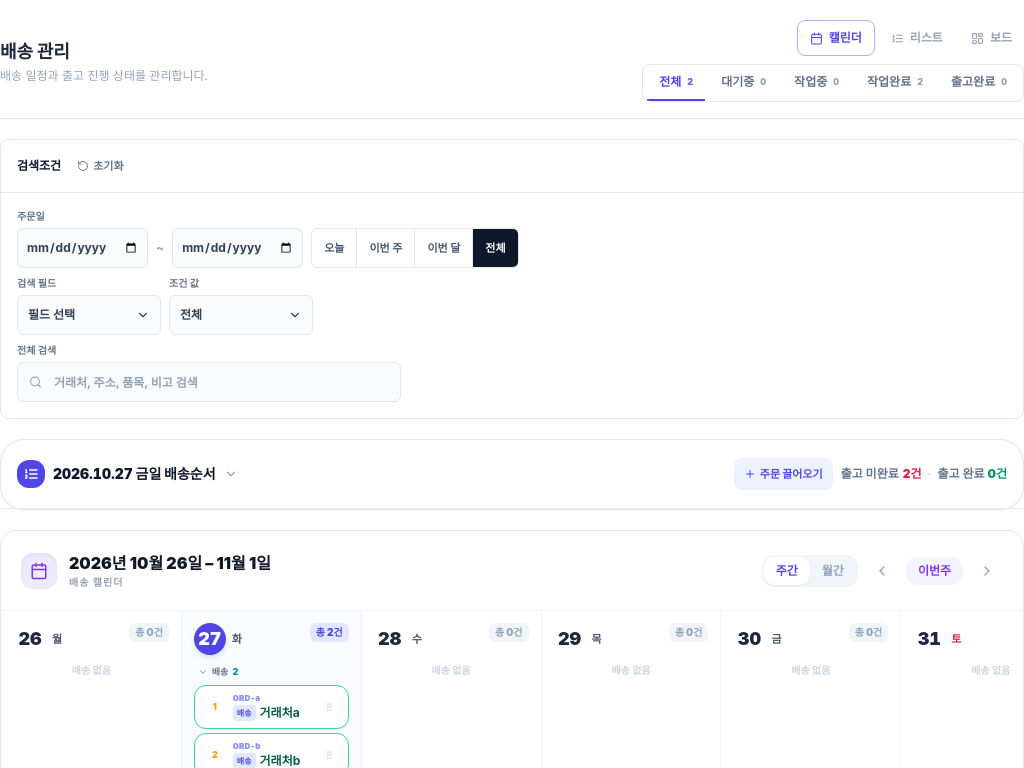
Test: 순서 picker 응답유실은 dialog 안에서 조회·중단하고 현재읽기 뒤 같은초안으로 다시 작성한다
Click the button "주문 끌어오기": click(783, 474) [734,458,833,490]
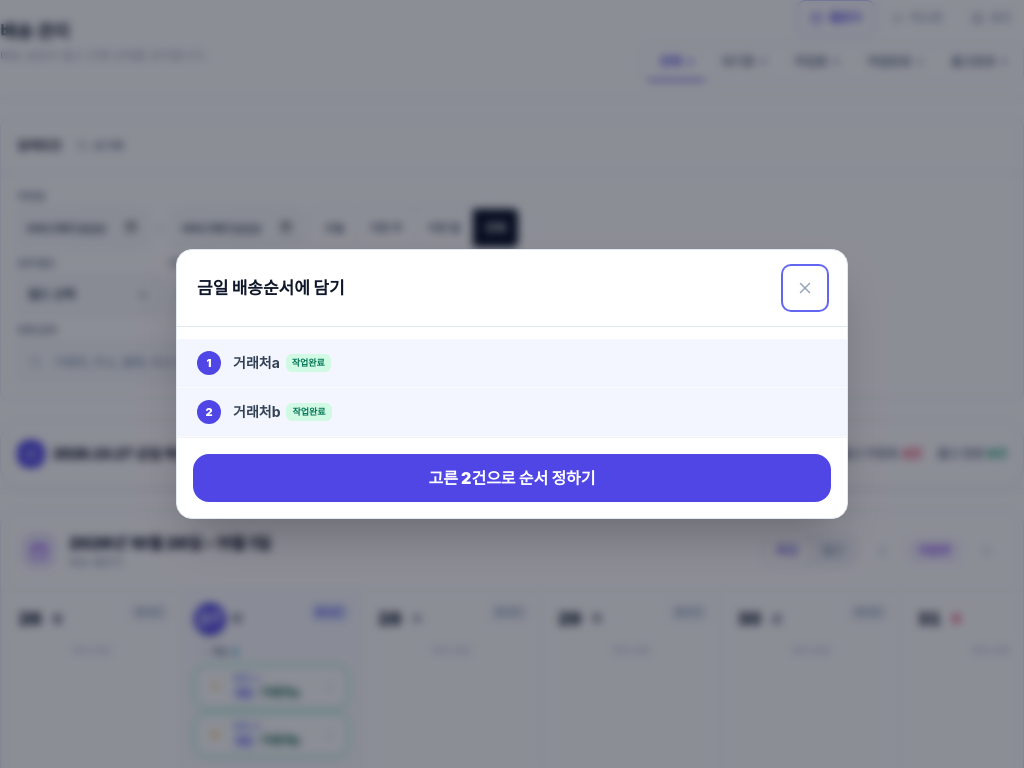
Click the button "고른 2건으로 순서 정하기": click(512, 478) [193,454,831,502]
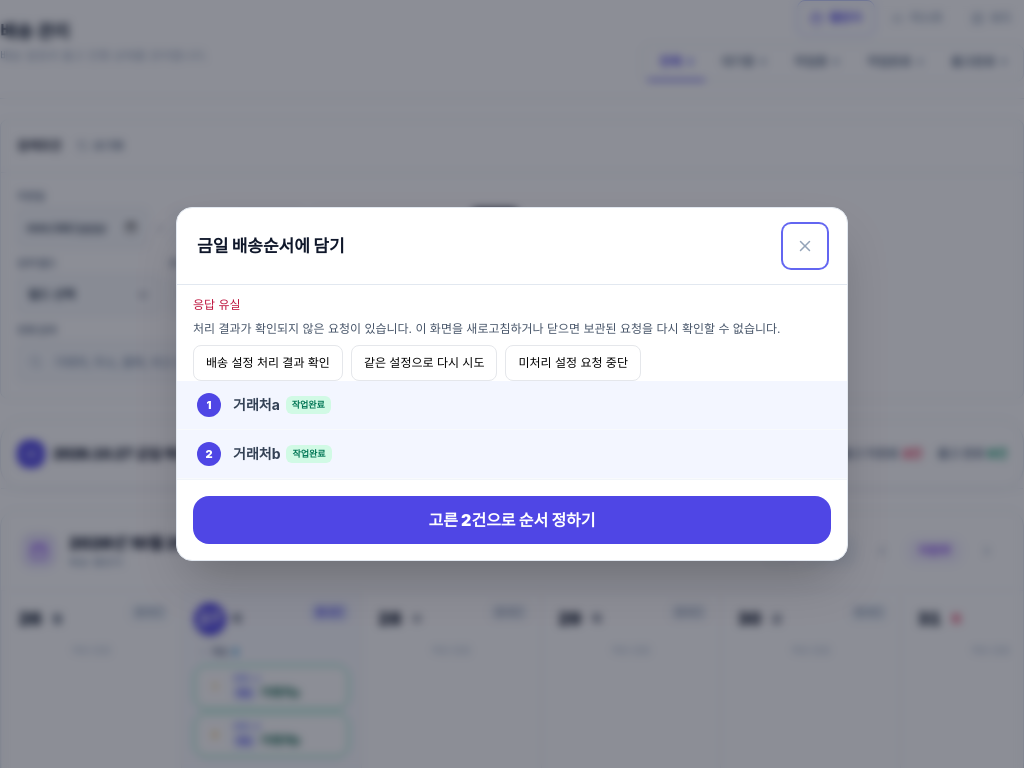
Result: the button "배송 설정 처리 결과 확인" is enabled
Click the button "배송 설정 처리 결과 확인": click(268, 363) [193,345,343,381]
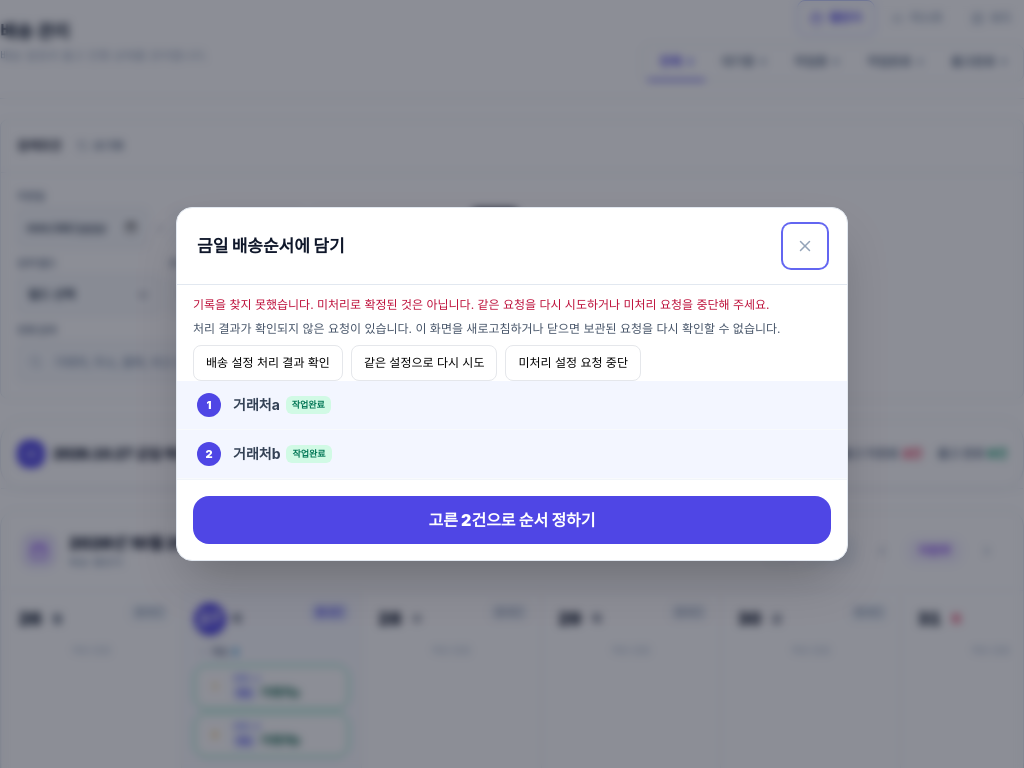
Result: the message shows "미처리로 확정된 것은 아닙니다" at [193,297,770,312]
Click the button "미처리 설정 요청 중단": click(573, 363) [505,345,641,381]
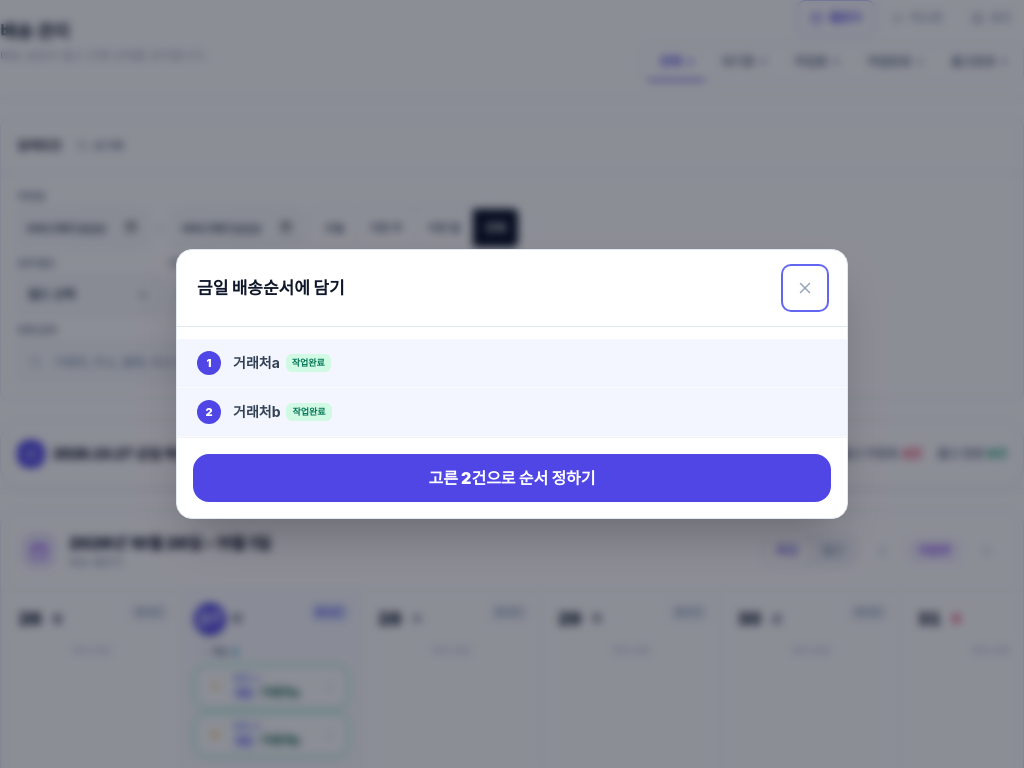
Result: the number of dialogs is 1 at [176,249,848,519]
Result: the button "고른 2건으로 순서 정하기" is enabled at [193,454,831,502]
